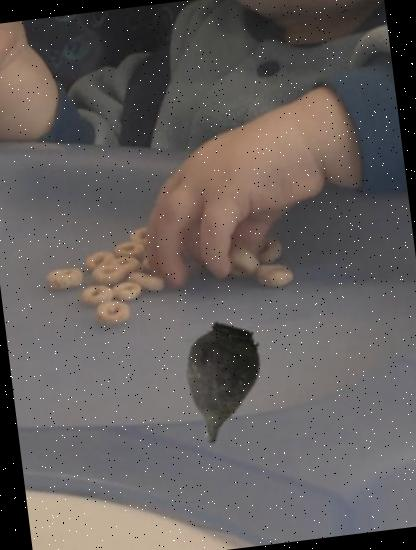Beetroot: (148, 315, 288, 454)
